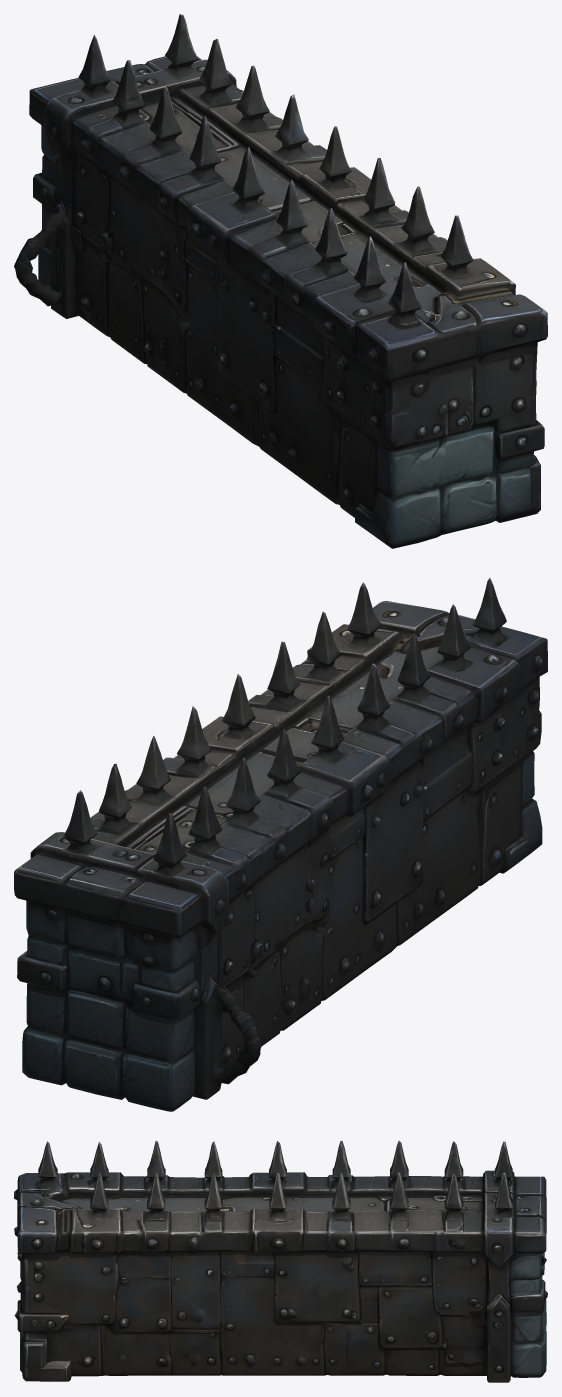
The model's file is iron_wall.glb.
3 views of the same model, one above another, from view 1: azimuth 30°, elevation 25°; view 2: azimuth 150°, elevation 25°; view 3: azimuth 270°, elevation 25° (orthographic). The views are drawn at different scales.
Parts seen in each view (by area): view 1: tripo_node_56276710-6d20-417e-a1a1-8bcbaec4bf90; view 2: tripo_node_56276710-6d20-417e-a1a1-8bcbaec4bf90; view 3: tripo_node_56276710-6d20-417e-a1a1-8bcbaec4bf90.
Part boxes in pixels (x1,y1,x2,y2): tripo_node_56276710-6d20-417e-a1a1-8bcbaec4bf90: (14, 14, 547, 548); tripo_node_56276710-6d20-417e-a1a1-8bcbaec4bf90: (14, 578, 547, 1111); tripo_node_56276710-6d20-417e-a1a1-8bcbaec4bf90: (14, 1140, 547, 1382).
Size of the model in its own units: 0.3454 by 0.4109 by 1.
1 material, 1 textured.
